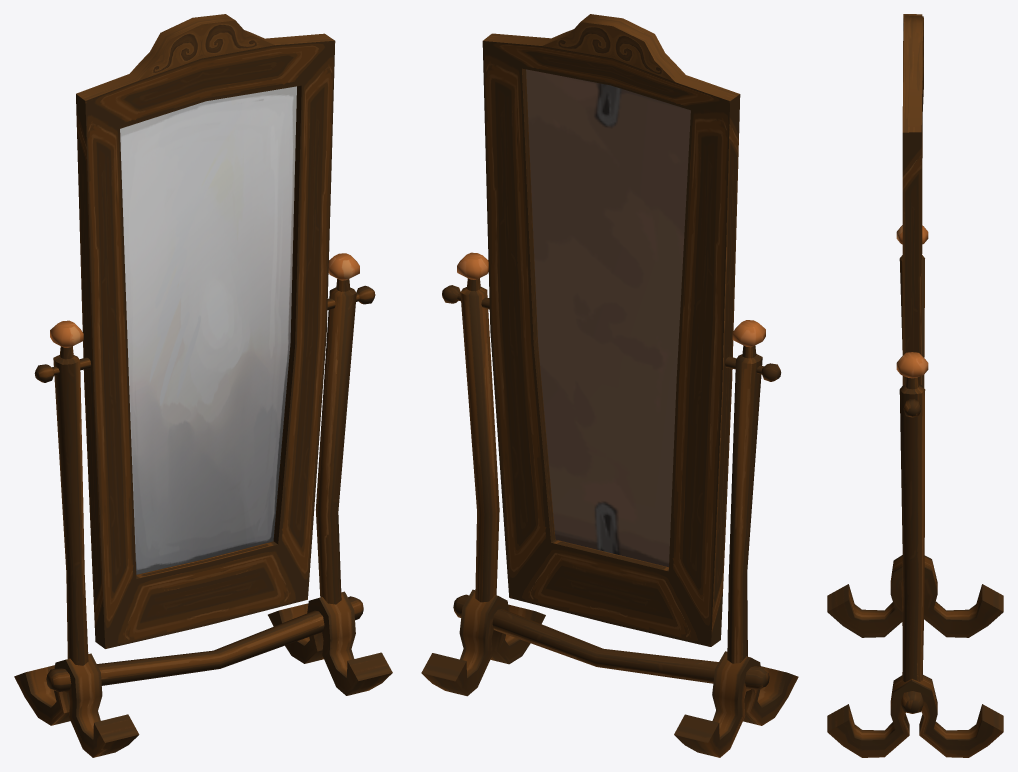
Rendered from SM_PROP_mirror_interior_02.fbx.
The picture shows the model from 3 angles, left to right: view 1: azimuth 30°, elevation 25°; view 2: azimuth 150°, elevation 25°; view 3: azimuth 270°, elevation 25°; orthographic projection. The views are drawn at different scales.
Parts seen in each view (by area): view 1: SM_PROP_mirror_glass_interior_02, SM_PROP_mirror_interior_02; view 2: SM_PROP_mirror_glass_interior_02, SM_PROP_mirror_interior_02; view 3: SM_PROP_mirror_interior_02, SM_PROP_mirror_glass_interior_02.
Boxes of the visible parts, <box> form: SM_PROP_mirror_glass_interior_02: <box>76,14,335,648</box>; SM_PROP_mirror_interior_02: <box>14,253,392,757</box>; SM_PROP_mirror_glass_interior_02: <box>482,14,740,646</box>; SM_PROP_mirror_interior_02: <box>421,252,798,757</box>; SM_PROP_mirror_interior_02: <box>827,225,1003,757</box>; SM_PROP_mirror_glass_interior_02: <box>902,14,923,650</box>.
Bounding box in the file's own units: 119 × 233 × 55.91.
